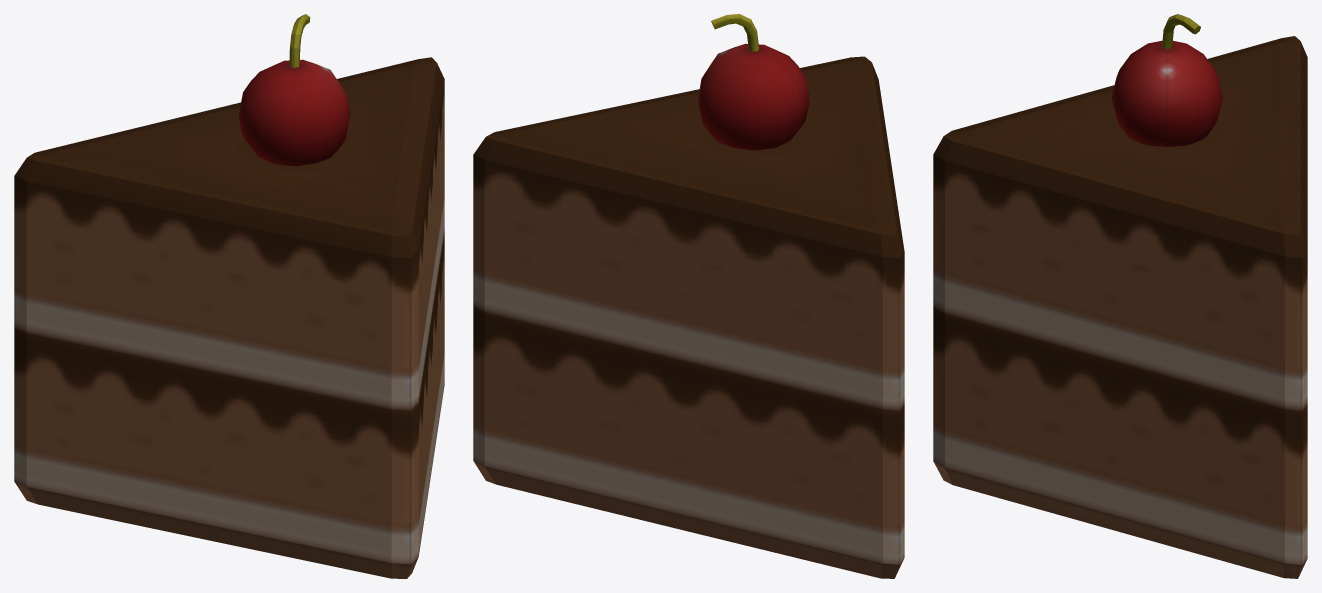
The model's file is cake.glb.
The picture shows the model from 3 angles, left to right: view 1: azimuth 30°, elevation 25°; view 2: azimuth 150°, elevation 25°; view 3: azimuth 270°, elevation 25°; orthographic projection.
Parts seen in each view (by area): view 1: geometry_0; view 2: geometry_0; view 3: geometry_0.
Boxes of the visible parts, x1=… form: geometry_0: x1=14, y1=14, x2=444, y2=578; geometry_0: x1=473, y1=14, x2=904, y2=578; geometry_0: x1=933, y1=14, x2=1307, y2=578.
Bounding box in the file's own units: 0.3139 × 0.3352 × 0.2384.
1 material, 1 textured.
